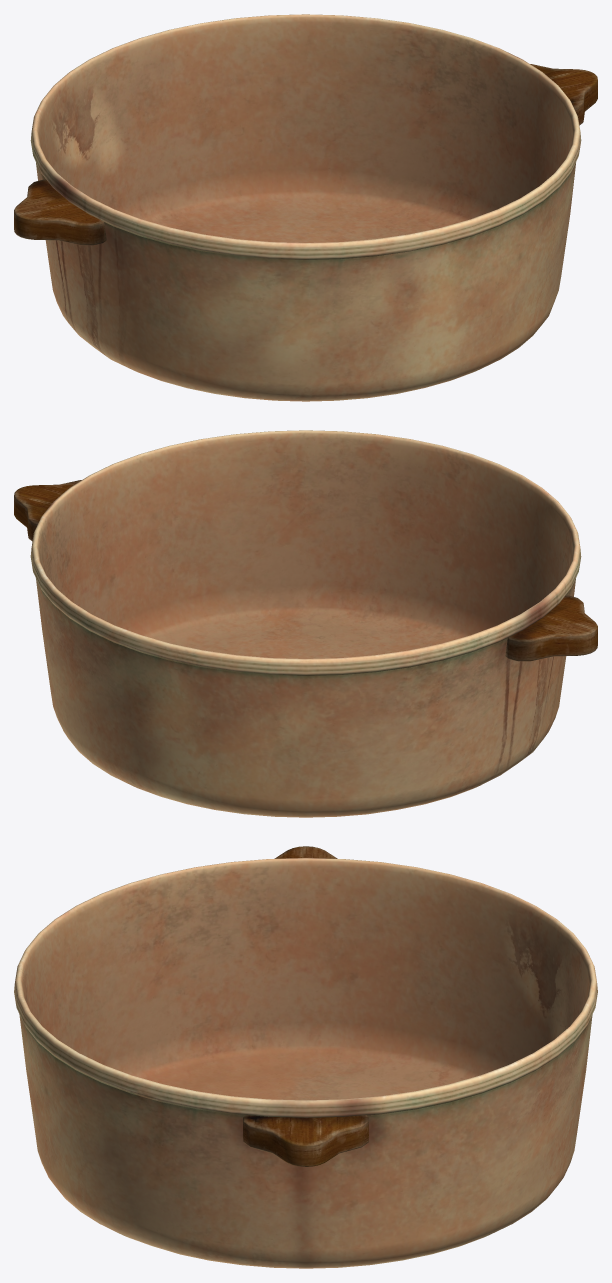
Rendered from brass_pot_02.glb.
3 renders of one model, top to bottom at view 1: azimuth 30°, elevation 25°; view 2: azimuth 150°, elevation 25°; view 3: azimuth 270°, elevation 25°, orthographic. The views are drawn at different scales.
Visible parts, largest first — view 1: brass_pot_02; view 2: brass_pot_02; view 3: brass_pot_02.
Part boxes in pixels (x1=…): brass_pot_02: x1=14, y1=14, x2=597, y2=401; brass_pot_02: x1=14, y1=430, x2=597, y2=817; brass_pot_02: x1=14, y1=846, x2=597, y2=1268.
Size of the model in its own units: 0.3666 by 0.1085 by 0.3023.
Materials: 1 (1 with a texture image).
